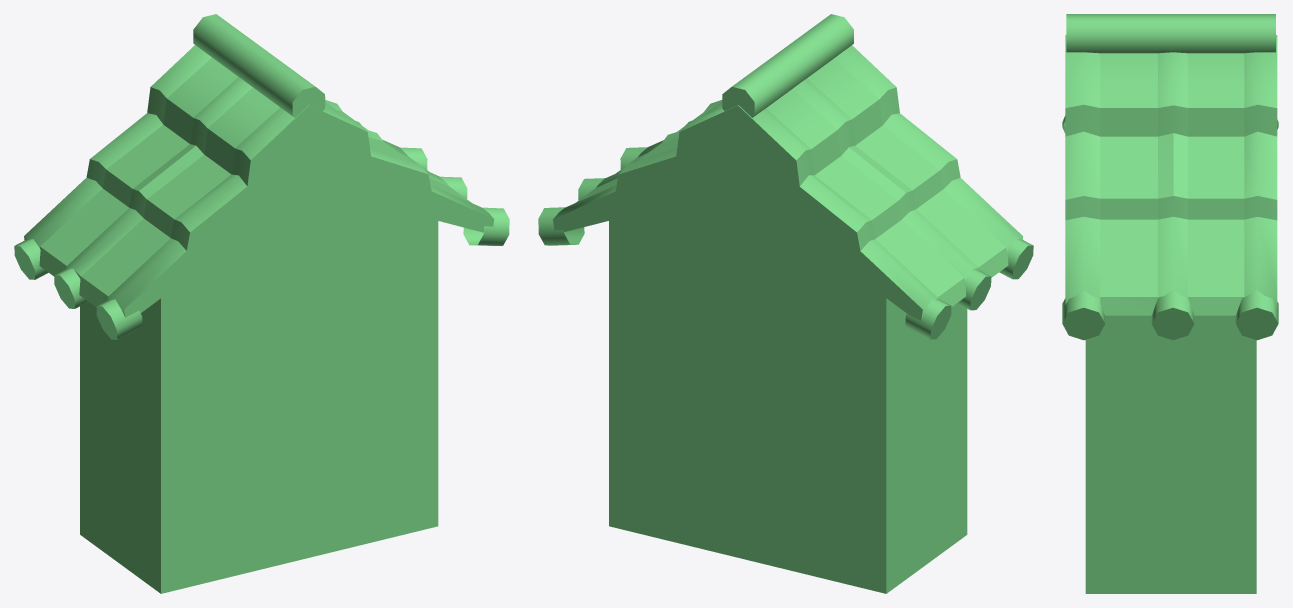
The model's file is Wall Test.fbx.
The picture shows the model from 3 angles, left to right: view 1: azimuth 30°, elevation 25°; view 2: azimuth 150°, elevation 25°; view 3: azimuth 270°, elevation 25°; orthographic projection. The views are drawn at different scales.
Visible parts, largest first — view 1: Plane004; view 2: Plane004; view 3: Plane004.
Boxes of the visible parts, x1,y1,x2,y2 form: Plane004: (14, 14, 509, 593); Plane004: (538, 14, 1033, 593); Plane004: (1062, 14, 1278, 593).
Size of the model in its own units: 1.69 by 1.92 by 0.7457.
